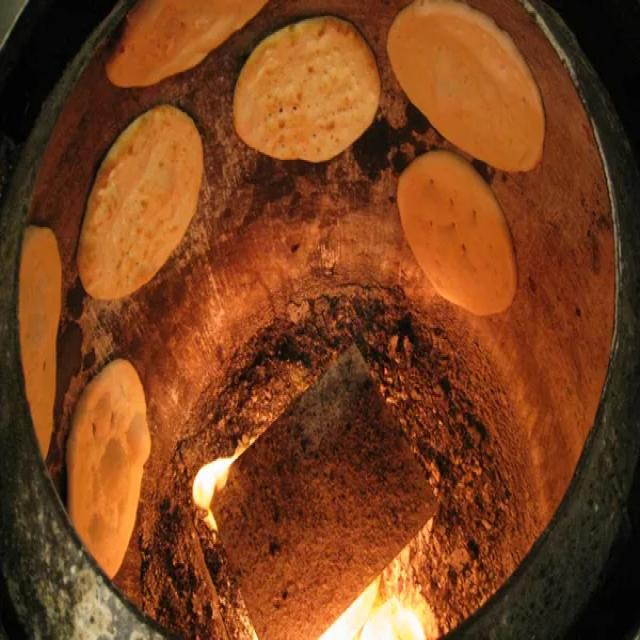fire: (317, 576, 427, 640), (192, 435, 255, 510)
